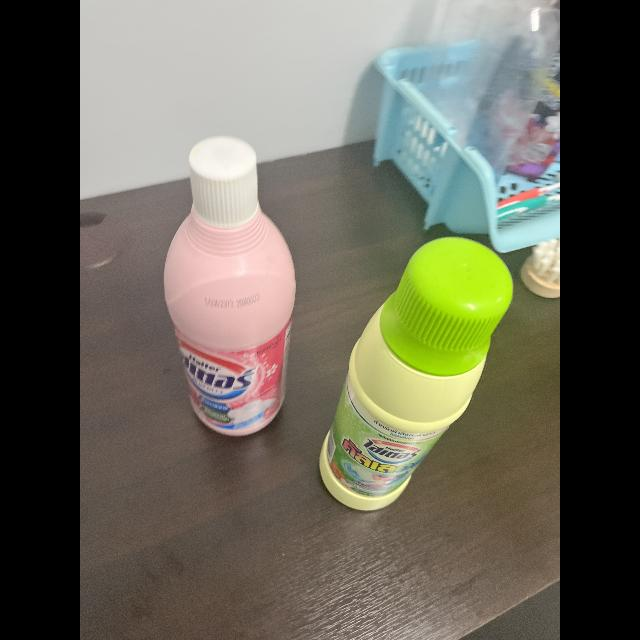chemical_plastic_bottle: (302, 234, 516, 514), (160, 134, 304, 440)
